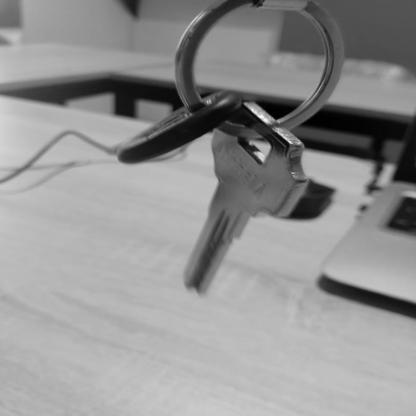key: (178, 87, 301, 297)
